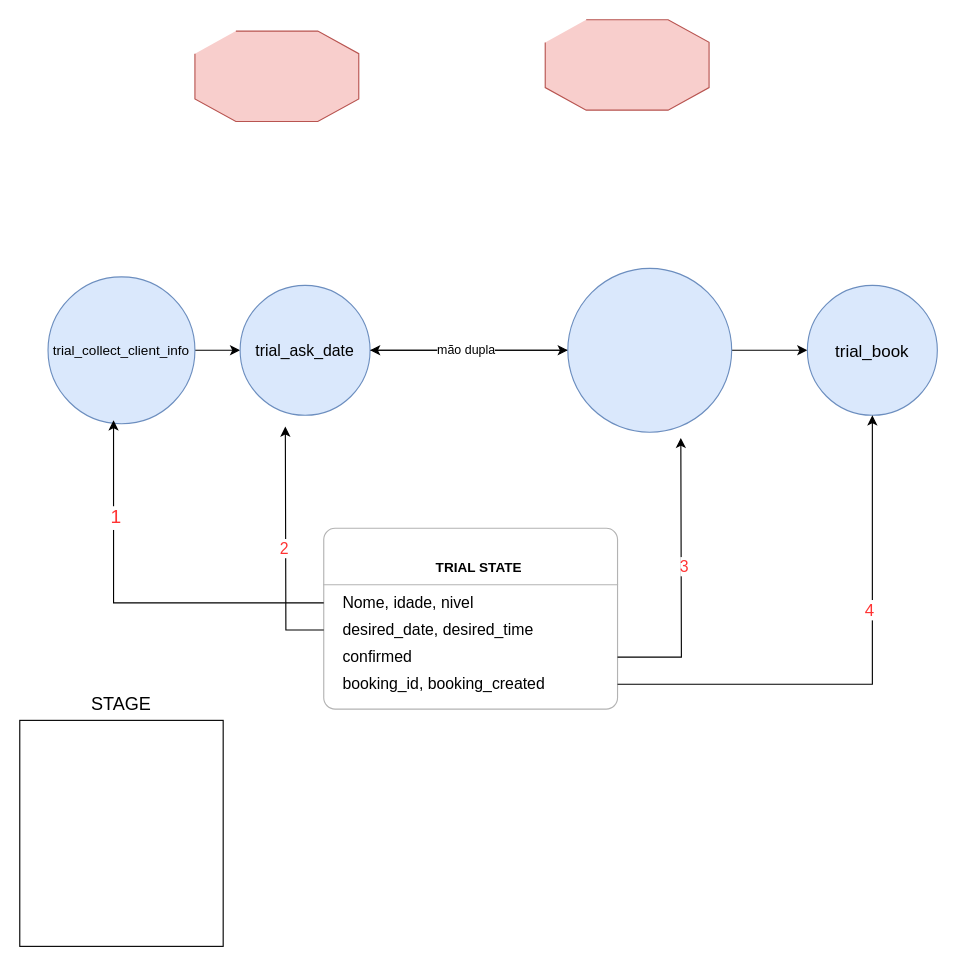
Image size: 957x966. Some labels were removed from this diagram. The centre of each missing label's shape, as x and y in pixels:
1 : collect_client_info 2 : ask_date 3 : awaiting_confirmation 4 : booked: [121,832]
trial_awaiting_confirmation: [649,349]
